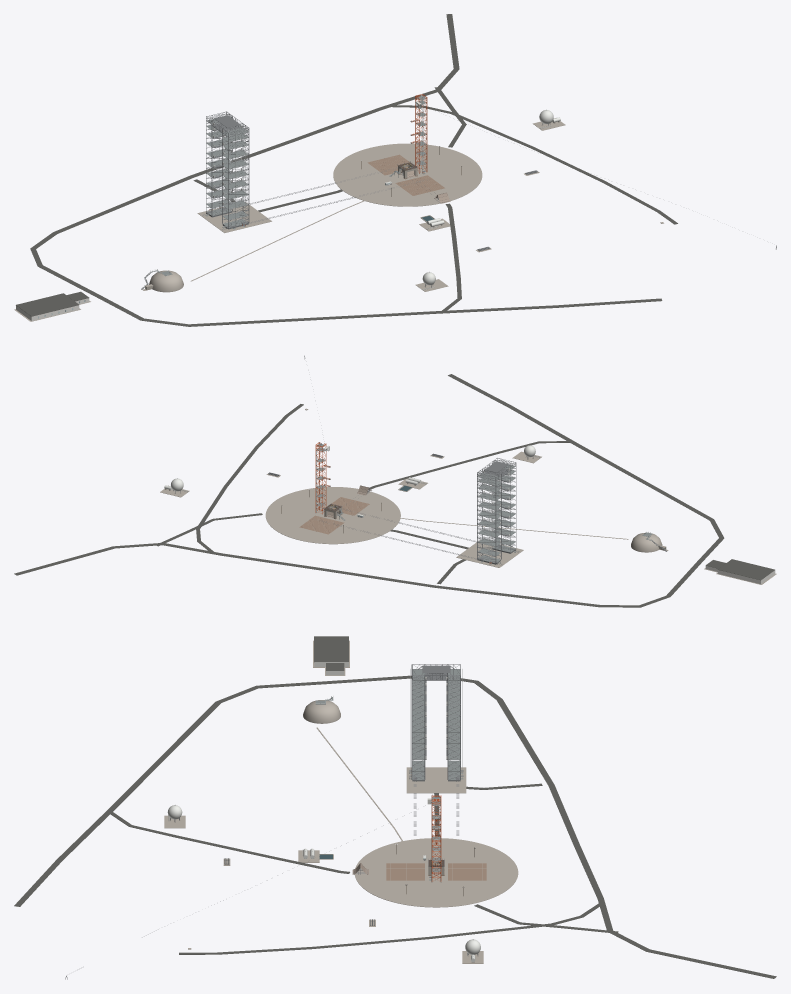
3 renders of one model, top to bottom at view 1: azimuth 30°, elevation 25°; view 2: azimuth 150°, elevation 25°; view 3: azimuth 270°, elevation 25°, orthographic. The views are drawn at different scales.
Visible parts, largest first — view 1: Roads_Asphalt, Apron_Concrete, Service_Structure_Steel, Service_Structure_Deck, Apron_Brick, Operations_Support_Asphalt, Roads_Concrete, Umbilical_Tower_Red, Blockhouse_Concrete; view 2: Roads_Asphalt, Apron_Concrete, Service_Structure_Steel, Service_Structure_Deck, Apron_Brick, Operations_Support_Asphalt, Roads_Concrete, Umbilical_Tower_Red, Blockhouse_Concrete; view 3: Roads_Asphalt, Apron_Concrete, Service_Structure_Deck, Service_Structure_Steel, Apron_Brick, Roads_Concrete, Operations_Support_Asphalt, Blockhouse_Concrete, Umbilical_Tower_Red.
Part boxes in pixels (bbox=[...]): Roads_Asphalt: bbox=[30, 14, 677, 326]; Apron_Concrete: bbox=[333, 143, 482, 206]; Service_Structure_Steel: bbox=[206, 111, 249, 227]; Service_Structure_Deck: bbox=[206, 119, 248, 227]; Apron_Brick: bbox=[367, 154, 444, 195]; Operations_Support_Asphalt: bbox=[16, 291, 89, 316]; Roads_Concrete: bbox=[197, 202, 271, 232]; Umbilical_Tower_Red: bbox=[415, 94, 427, 173]; Blockhouse_Concrete: bbox=[149, 270, 183, 292]; Roads_Asphalt: bbox=[14, 374, 724, 607]; Apron_Concrete: bbox=[265, 487, 400, 544]; Service_Structure_Steel: bbox=[477, 458, 516, 563]; Service_Structure_Deck: bbox=[478, 464, 515, 563]; Apron_Brick: bbox=[299, 497, 369, 534]; Operations_Support_Asphalt: bbox=[706, 559, 774, 580]; Roads_Concrete: bbox=[456, 539, 523, 567]; Umbilical_Tower_Red: bbox=[315, 442, 326, 514]; Blockhouse_Concrete: bbox=[631, 533, 662, 552]; Roads_Asphalt: bbox=[14, 675, 776, 978]; Apron_Concrete: bbox=[354, 838, 518, 907]; Service_Structure_Deck: bbox=[412, 669, 460, 779]; Service_Structure_Steel: bbox=[411, 664, 460, 779]; Apron_Brick: bbox=[386, 863, 486, 880]; Roads_Concrete: bbox=[406, 767, 466, 793]; Operations_Support_Asphalt: bbox=[314, 636, 348, 670]; Blockhouse_Concrete: bbox=[303, 700, 340, 723]; Umbilical_Tower_Red: bbox=[431, 795, 441, 881].
Bounding box in the file's own units: 643 × 95.91 × 611.
